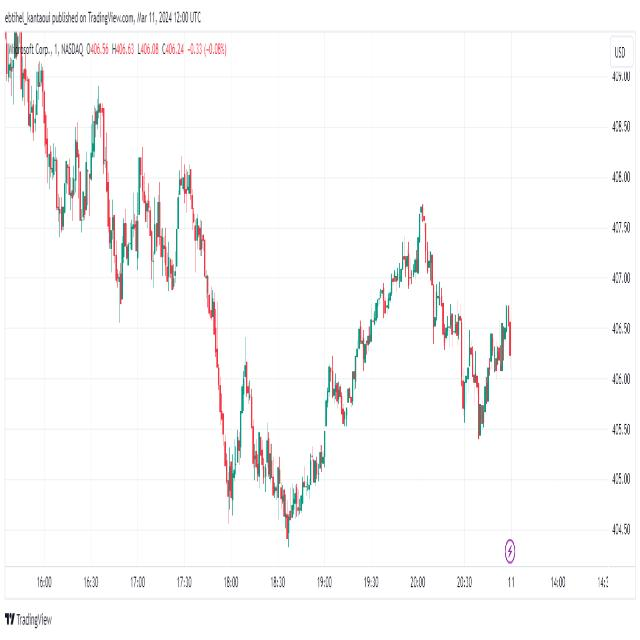Channel-down: (411, 167, 501, 486)
Cup-and-handle: (242, 312, 365, 542)
